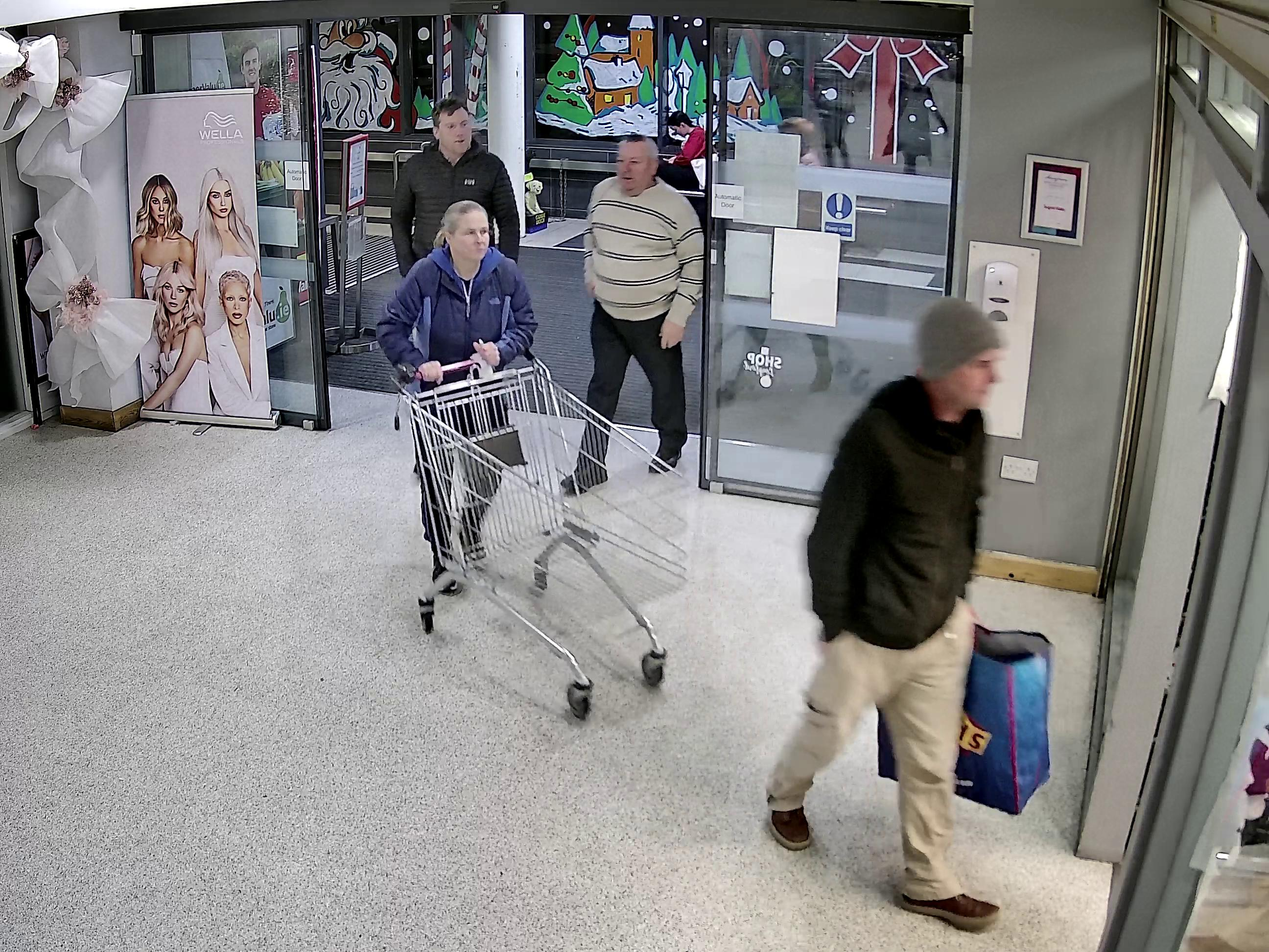empty-trolly: (385, 341, 691, 719)
filled-shopping-bags: (875, 616, 1052, 821)
person: (766, 297, 999, 928), (374, 199, 537, 590)
person-with-empty-basket-trolly: (374, 198, 693, 717)
person-with-filled-shopping-bag-s-: (765, 296, 1052, 928)
